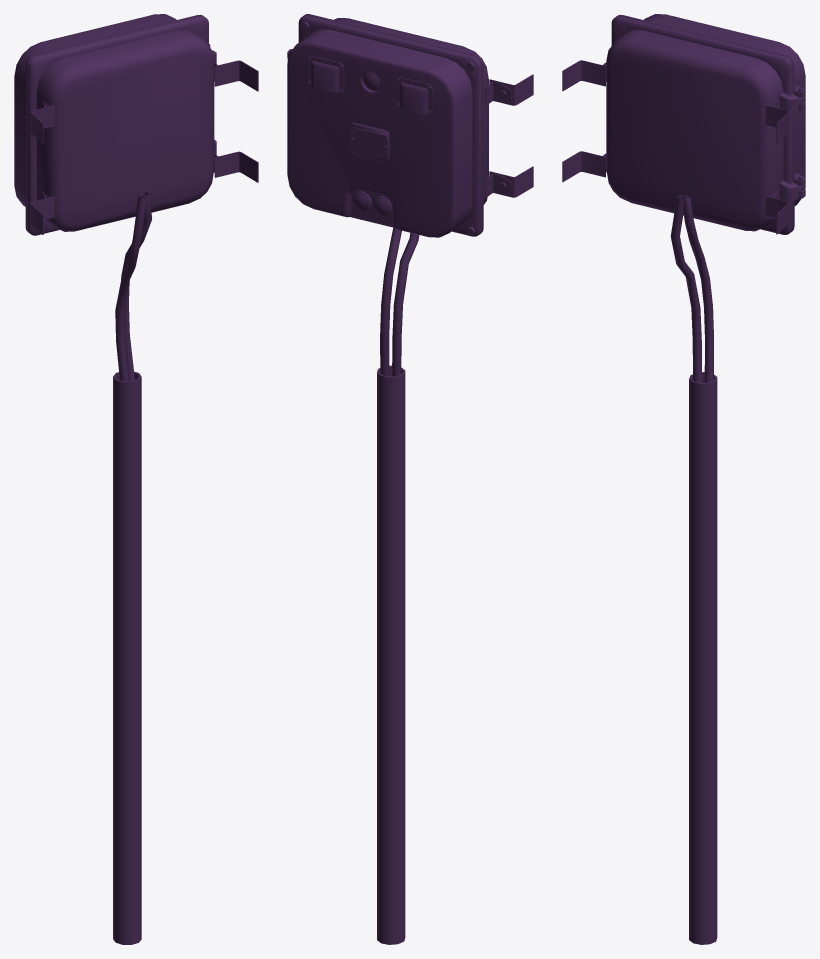
File: Engine15.fbx
The picture shows the model from 3 angles, left to right: view 1: azimuth 30°, elevation 25°; view 2: azimuth 150°, elevation 25°; view 3: azimuth 330°, elevation 25°; orthographic projection.
Visible parts, largest first — view 1: Stuff2.005; view 2: Stuff2.005; view 3: Stuff2.005.
Boxes of the visible parts, left/top/right/bottom form: Stuff2.005: left=14, top=14, right=258, bottom=944; Stuff2.005: left=287, top=14, right=533, bottom=944; Stuff2.005: left=562, top=14, right=805, bottom=944.
Bounding box in the file's own units: 40.4 × 161 × 18.42.
